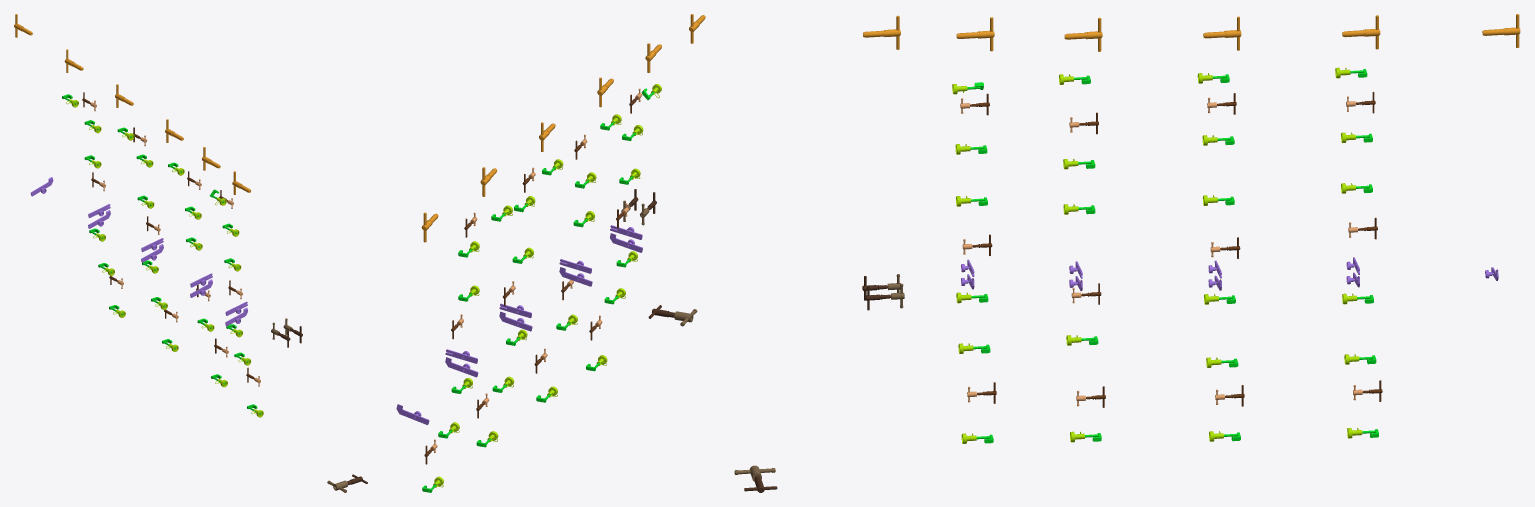
The model's file is Test002_alltransforms.fbx.
3 renders of one model, left to right at view 1: azimuth 30°, elevation 25°; view 2: azimuth 150°, elevation 25°; view 3: azimuth 270°, elevation 25°, orthographic. The views are drawn at different scales.
Size of the model in its own units: 46.52 by 142 by 239.
